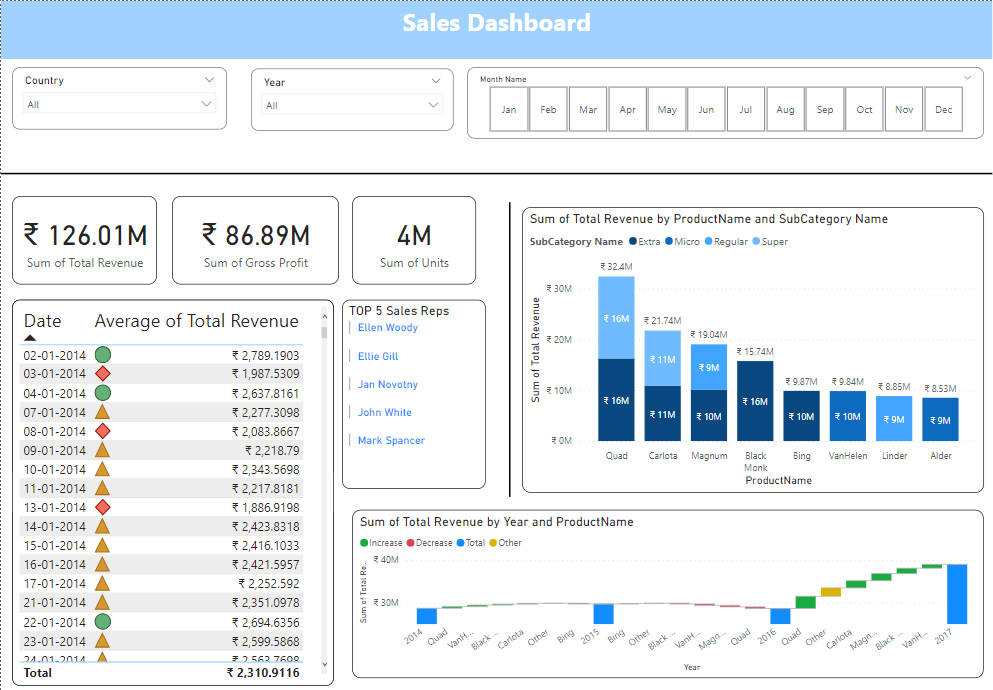

Layout of this report page (visuals, bound fields, positions):
{"tool":"powerbi","page":{"name":"Page 1","canvas":[1300,1300],"ordinal":0},"visuals":[{"type":"textbox","box":[0,0,1300.3,76.1],"z":0},{"type":"slicer","fields":{"Values":["Geography.Country"]},"box":[14.4,87.5,281.3,81.8],"z":1000},{"type":"slicer","fields":{"Values":["Date Master.Year"]},"box":[327.2,89,265.5,81.8],"z":2000},{"type":"slicer","fields":{"Values":["Date Master.Month Name"]},"box":[611.4,87.5,677.4,93.3],"z":3000},{"type":"shape","box":[0,196.6,1300.3,58.8],"z":4000},{"type":"shape","box":[0,889.8,1300.3,45.9],"z":5000},{"type":"card","fields":{"Values":["Sum(Sales.Total Revenue)"]},"box":[14.4,255.5,189.4,116.3],"z":6000},{"type":"card","fields":{"Values":["Sum(Sales.Gross Profit)"]},"box":[225.3,255.5,218.1,116.3],"z":7000},{"type":"card","fields":{"Values":["Sum(Sales.Units)"]},"box":[460.7,255.5,162.2,116.3],"z":8000},{"type":"shape","box":[650.1,264.1,33,386.1],"z":9000},{"type":"pieChart","fields":{"Y":["Sum(Sales.Total Revenue)"],"Category":["SubCategory.SubCategory Name"]},"box":[14.4,391.8,421.9,233.9],"z":10000},{"type":"donutChart","fields":{"Y":["Sum(Sales.Total Revenue)"],"Category":["Geography.Town"]},"box":[14.4,664.5,421.9,233.9],"z":11000},{"type":"multiRowCard","title":"TOP 5 Sales Reps","fields":{"Values":["SalesRep.Sales Rep Name"]},"box":[447.8,391.8,188,248.3],"z":12000},{"type":"waterfallChart","fields":{"Breakdown":["Product.ProductName"],"Category":["Date Master.Year"],"Y":["Sum(Sales.Total Revenue)"]},"box":[460.7,667.4,828.1,221],"z":13000},{"type":"columnChart","fields":{"Y":["Sum(Sales.Total Revenue)"],"Category":["Product.ProductName"],"Series":["SubCategory.SubCategory Name"]},"box":[683.2,271.3,605.7,374.6],"z":14000},{"type":"lineChart","fields":{"Category":["Date Master.Qtr"],"Y":["Sum(Sales.Total Revenue)"]},"box":[14.4,934.3,608.5,343],"z":14001},{"type":"lineChart","fields":{"Category":["Date Master.Month Name"],"Y":["Sum(Sales.Gross Profit)"]},"box":[650.1,935.7,627.2,343],"z":14002},{"type":"tableEx","fields":{"Values":["Date Master.Date","Avg(Sales.Total Revenue)"]},"box":[14.4,391.8,421.9,506.6],"z":14003}]}

Visuals, with their boxes on the page's 1300x1300 design canvas (x1, y1, x2, y2). These are canvas units, not pixel positions in the 993x690 screenshot, which may show the page scaled, cropped or inside an application window:
textbox: x1=0 y1=0 x2=1300 y2=76
slicer - Geography.Country: x1=14 y1=88 x2=296 y2=169
slicer - Date Master.Year: x1=327 y1=89 x2=593 y2=171
slicer - Date Master.Month Name: x1=611 y1=88 x2=1289 y2=181
shape: x1=0 y1=197 x2=1300 y2=255
shape: x1=0 y1=890 x2=1300 y2=936
card - Sum(Sales.Total Revenue): x1=14 y1=256 x2=204 y2=372
card - Sum(Sales.Gross Profit): x1=225 y1=256 x2=443 y2=372
card - Sum(Sales.Units): x1=461 y1=256 x2=623 y2=372
shape: x1=650 y1=264 x2=683 y2=650
pieChart - Sum(Sales.Total Revenue) x SubCategory.SubCategory Name: x1=14 y1=392 x2=436 y2=626
donutChart - Sum(Sales.Total Revenue) x Geography.Town: x1=14 y1=664 x2=436 y2=898
"TOP 5 Sales Reps" multiRowCard: x1=448 y1=392 x2=636 y2=640
waterfallChart - Product.ProductName x Date Master.Year: x1=461 y1=667 x2=1289 y2=888
columnChart - Sum(Sales.Total Revenue) x Product.ProductName: x1=683 y1=271 x2=1289 y2=646
lineChart - Date Master.Qtr x Sum(Sales.Total Revenue): x1=14 y1=934 x2=623 y2=1277
lineChart - Date Master.Month Name x Sum(Sales.Gross Profit): x1=650 y1=936 x2=1277 y2=1279
tableEx - Date Master.Date x Avg(Sales.Total Revenue): x1=14 y1=392 x2=436 y2=898
